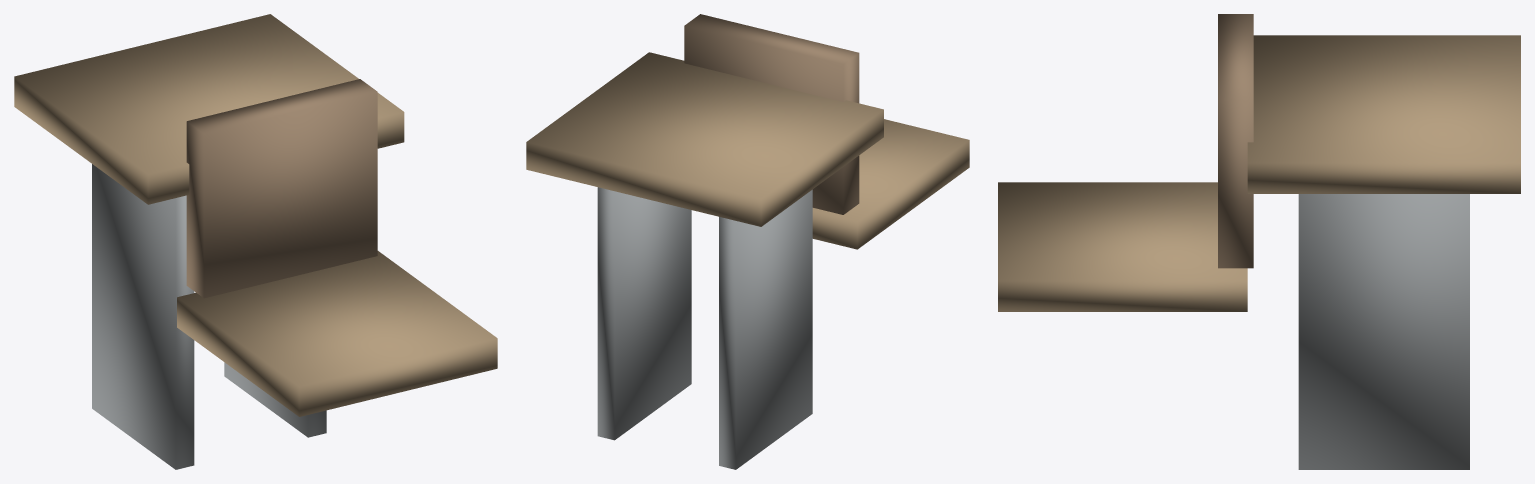
File: classroom_desk__deep.glb
3 renders of one model, left to right at view 1: azimuth 30°, elevation 25°; view 2: azimuth 150°, elevation 25°; view 3: azimuth 270°, elevation 25°, orthographic. The views are drawn at different scales.
Visible parts, largest first — view 1: world; view 2: world; view 3: world.
Boxes of the visible parts, x1,y1,x2,y2 form: world: [14, 14, 497, 469]; world: [526, 14, 969, 469]; world: [998, 14, 1520, 469].
Bounding box in the file's own units: 0.62 × 0.85 × 1.07.
